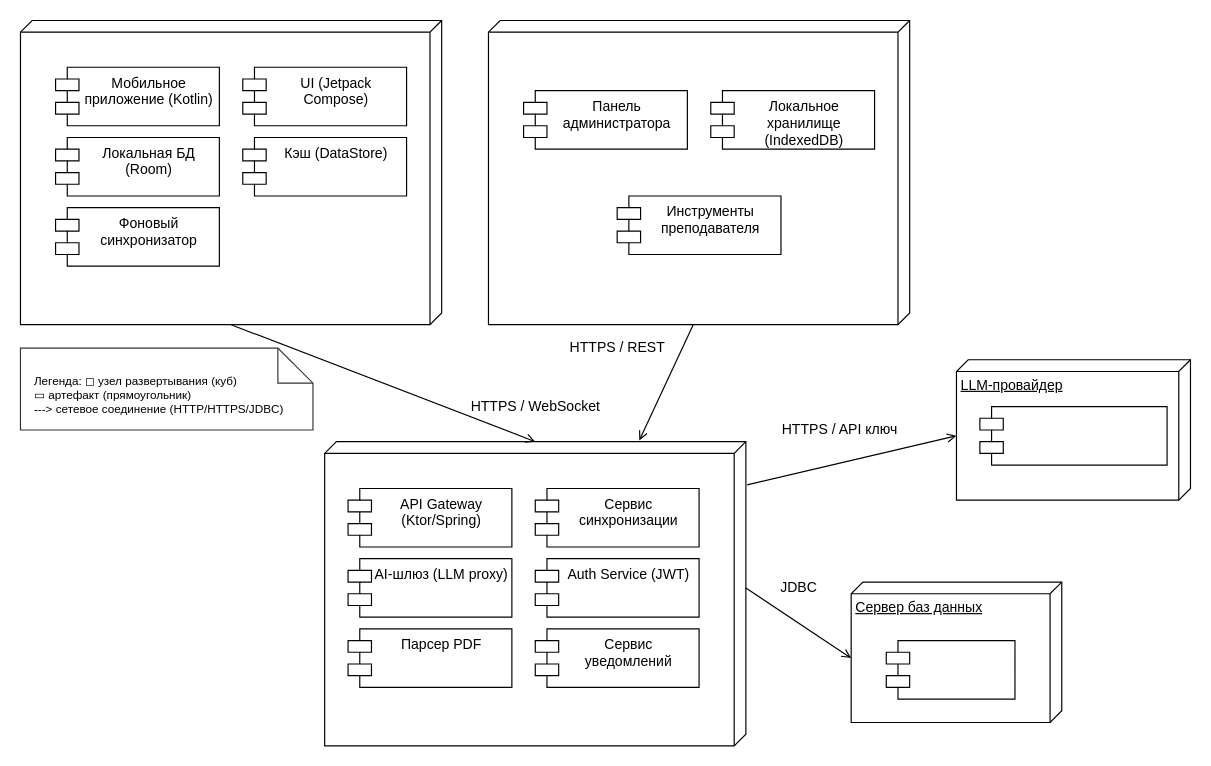
Some shapes in this 1211 by 766 pixel diagram are drawn without their labels. The shapes that lost their labels are listed below. From the top down, each one's box as (x1, y1, x2, y2) in pixels, then its label:
(19, 19, 442, 325): Смартфон (Android)
(487, 19, 910, 325): Рабочая станция администратора
(979, 405, 1167, 465): OpenAI / GigaChat (или локальный LLM)
(324, 441, 746, 746): Сервер приложений
(885, 639, 1015, 699): PostgreSQL
